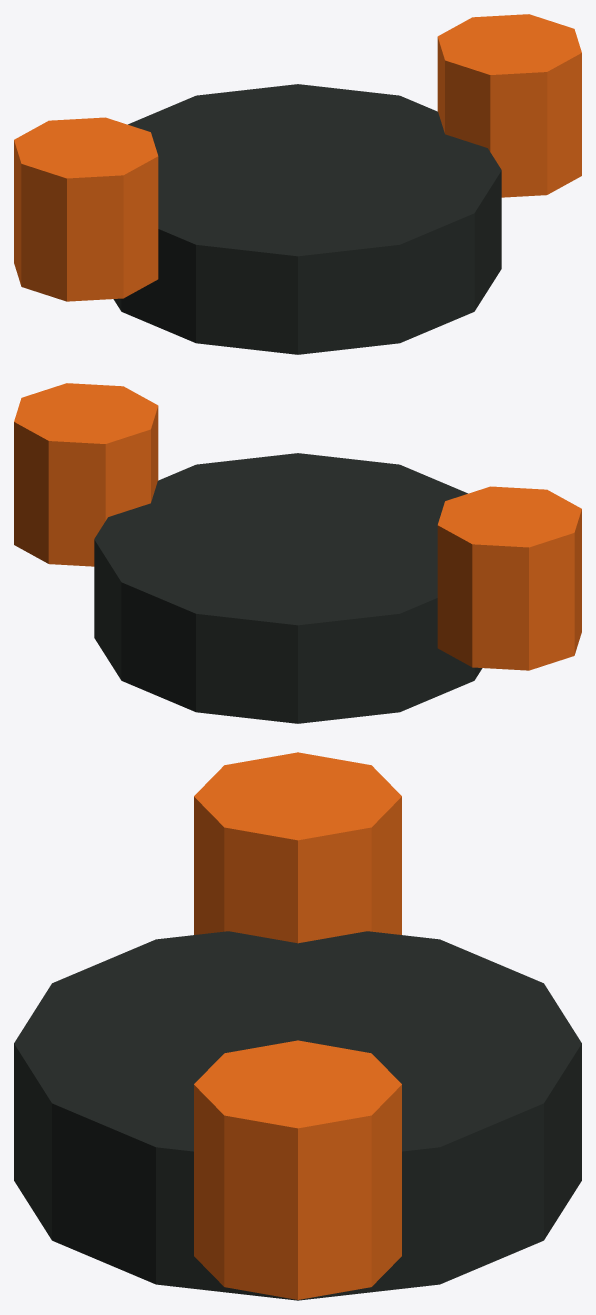
File: Bastion_WarFactoryCMV2_BeaconSpin.obj
3 views of the same model, one above another, from view 1: azimuth 30°, elevation 25°; view 2: azimuth 150°, elevation 25°; view 3: azimuth 270°, elevation 25° (orthographic). The views are drawn at different scales.
Visible parts, largest first — view 1: beacon_base_2, beacon_bulb_0, beacon_bulb_1; view 2: beacon_base_2, beacon_bulb_0, beacon_bulb_1; view 3: beacon_base_2, beacon_bulb_1, beacon_bulb_0.
Boxes of the visible parts, x1,y1,x2,y2 form: beacon_base_2: [113, 84, 501, 354]; beacon_bulb_0: [14, 117, 158, 301]; beacon_bulb_1: [437, 14, 581, 197]; beacon_base_2: [94, 453, 482, 723]; beacon_bulb_0: [437, 486, 581, 670]; beacon_bulb_1: [14, 383, 158, 566]; beacon_base_2: [14, 931, 581, 1300]; beacon_bulb_1: [194, 1040, 401, 1299]; beacon_bulb_0: [194, 752, 401, 943].
Bounding box in the file's own units: 0.47 × 0.14 × 0.3.
Materials: 2 (2 with a texture image).
